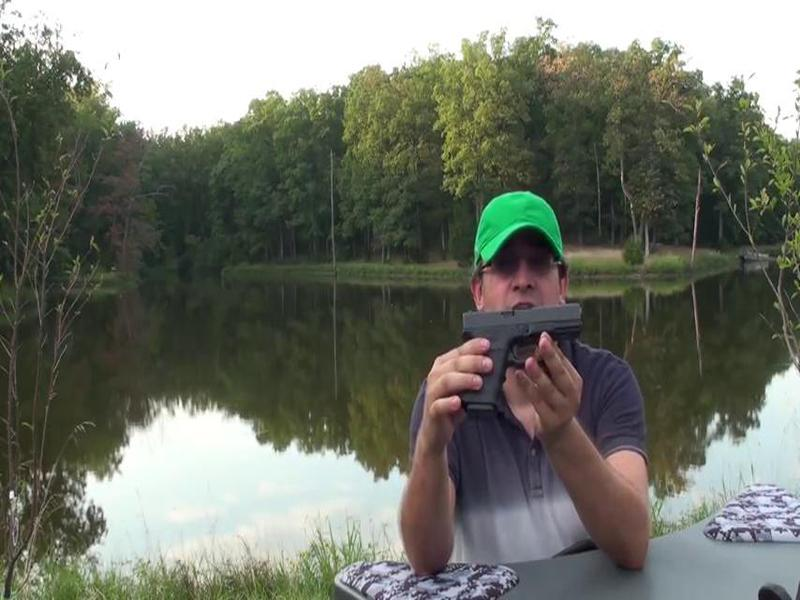Pistola: (456, 295, 610, 415)
